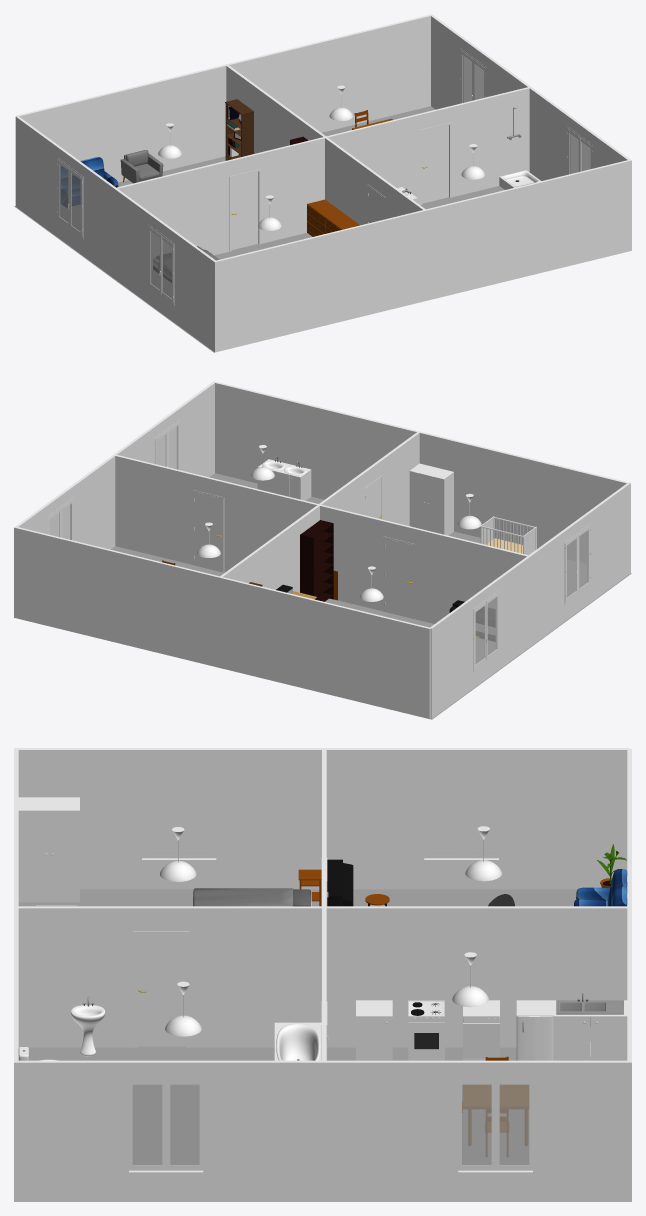
File: casa.obj
3 renders of one model, top to bottom at view 1: azimuth 30°, elevation 25°; view 2: azimuth 150°, elevation 25°; view 3: azimuth 270°, elevation 25°, orthographic. The views are drawn at different scales.
Parts seen in each view (by area): view 1: wall_3_16, wall_1_5, wall_5_29, wall_4_22, wall_2_11, wall_6_35, ground_1, sweethome3d_opening_on_hinge_1_door_227, sweethome3d_opening_on_hinge_1_door_245, Bookcase_149, frame_219, wall_3_18 (+11 smaller); view 2: wall_1_4, wall_3_17, wall_5_28, wall_4_22, wall_2_11, wall_6_35, ground_1, sweethome3d_opening_on_hinge_1_door_227, sweethome3d_opening_on_hinge_1_door_245, sweethome3d_opening_on_hinge_1_door_442, sweethome3d_opening_on_hinge_2_door_448, Corps_440 (+13 smaller); view 3: wall_2_10, wall_6_34, wall_4_23, ground_1, sweethome3d_opening_on_hinge_1_door_236, sweethome3d_opening_on_hinge_1_door_400, sweethome3d_opening_on_hinge_2_door_406, sweethome3d_window_pane_on_hinge_1_264, sweethome3d_window_pane_on_hinge_2_281, sweethome3d_window_pane_on_hinge_2_257, sweethome3d_window_pane_on_hinge_2_218, sweethome3d_window_pane_on_hinge_2_269 (+38 smaller).
Part boxes in pixels (x1,y1,x2,y2): wall_3_16: (215, 160, 631, 352); wall_1_5: (19, 16, 430, 182); wall_5_29: (118, 88, 529, 269); wall_4_22: (15, 117, 214, 352); wall_2_11: (431, 16, 627, 180); wall_6_35: (226, 66, 422, 225); ground_1: (14, 106, 504, 352); sweethome3d_opening_on_hinge_1_door_227: (231, 171, 258, 249); sweethome3d_opening_on_hinge_1_door_245: (422, 125, 448, 203); Bookcase_149: (225, 99, 253, 160); frame_219: (229, 169, 261, 251); wall_3_18: (215, 160, 630, 262); wall_1_4: (14, 527, 430, 719); wall_3_17: (215, 383, 626, 563); wall_5_28: (115, 456, 526, 634); wall_4_22: (430, 483, 630, 718); wall_2_11: (18, 383, 214, 549); wall_6_35: (223, 433, 419, 592); ground_1: (111, 473, 631, 719); sweethome3d_opening_on_hinge_1_door_227: (385, 538, 413, 618); sweethome3d_opening_on_hinge_1_door_245: (194, 492, 223, 572); sweethome3d_opening_on_hinge_1_door_442: (409, 471, 426, 530); sweethome3d_opening_on_hinge_2_door_448: (426, 475, 443, 534); Corps_440: (410, 463, 453, 535); wall_2_10: (14, 1062, 631, 1201); wall_6_34: (18, 908, 627, 1047); wall_4_23: (18, 750, 627, 889); ground_1: (18, 889, 627, 1165); sweethome3d_opening_on_hinge_1_door_236: (137, 934, 186, 1046); sweethome3d_opening_on_hinge_1_door_400: (18, 810, 49, 896); sweethome3d_opening_on_hinge_2_door_406: (49, 810, 79, 896); sweethome3d_window_pane_on_hinge_1_264: (499, 1084, 529, 1165); sweethome3d_window_pane_on_hinge_2_281: (132, 1084, 162, 1165); sweethome3d_window_pane_on_hinge_2_257: (145, 772, 175, 853); sweethome3d_window_pane_on_hinge_2_218: (428, 772, 457, 853); sweethome3d_window_pane_on_hinge_2_269: (462, 1084, 491, 1165).
Bounding box in the file's own units: 1212 × 250 × 1005.
Materials: 37 (1 with a texture image).
